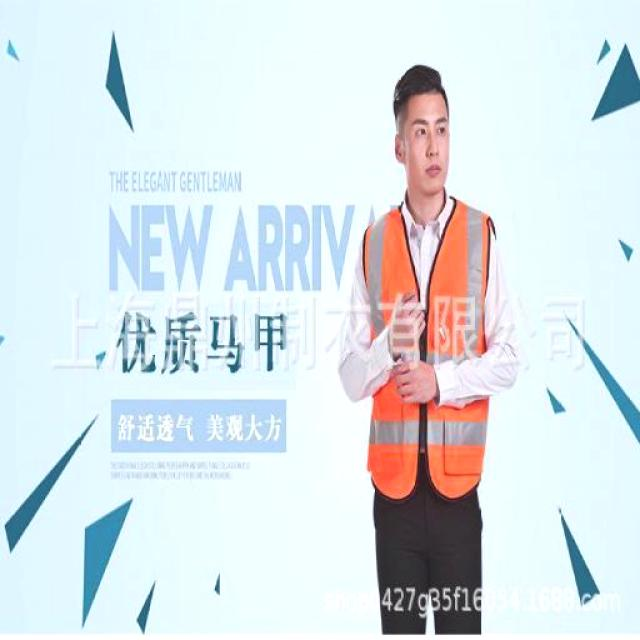face_nomask: (408, 117, 449, 182)
hand_noglove: (381, 288, 431, 354), (390, 356, 440, 406)
head_nohelmet: (391, 60, 454, 112)
person: (334, 57, 519, 640)
vest: (366, 181, 496, 503)
